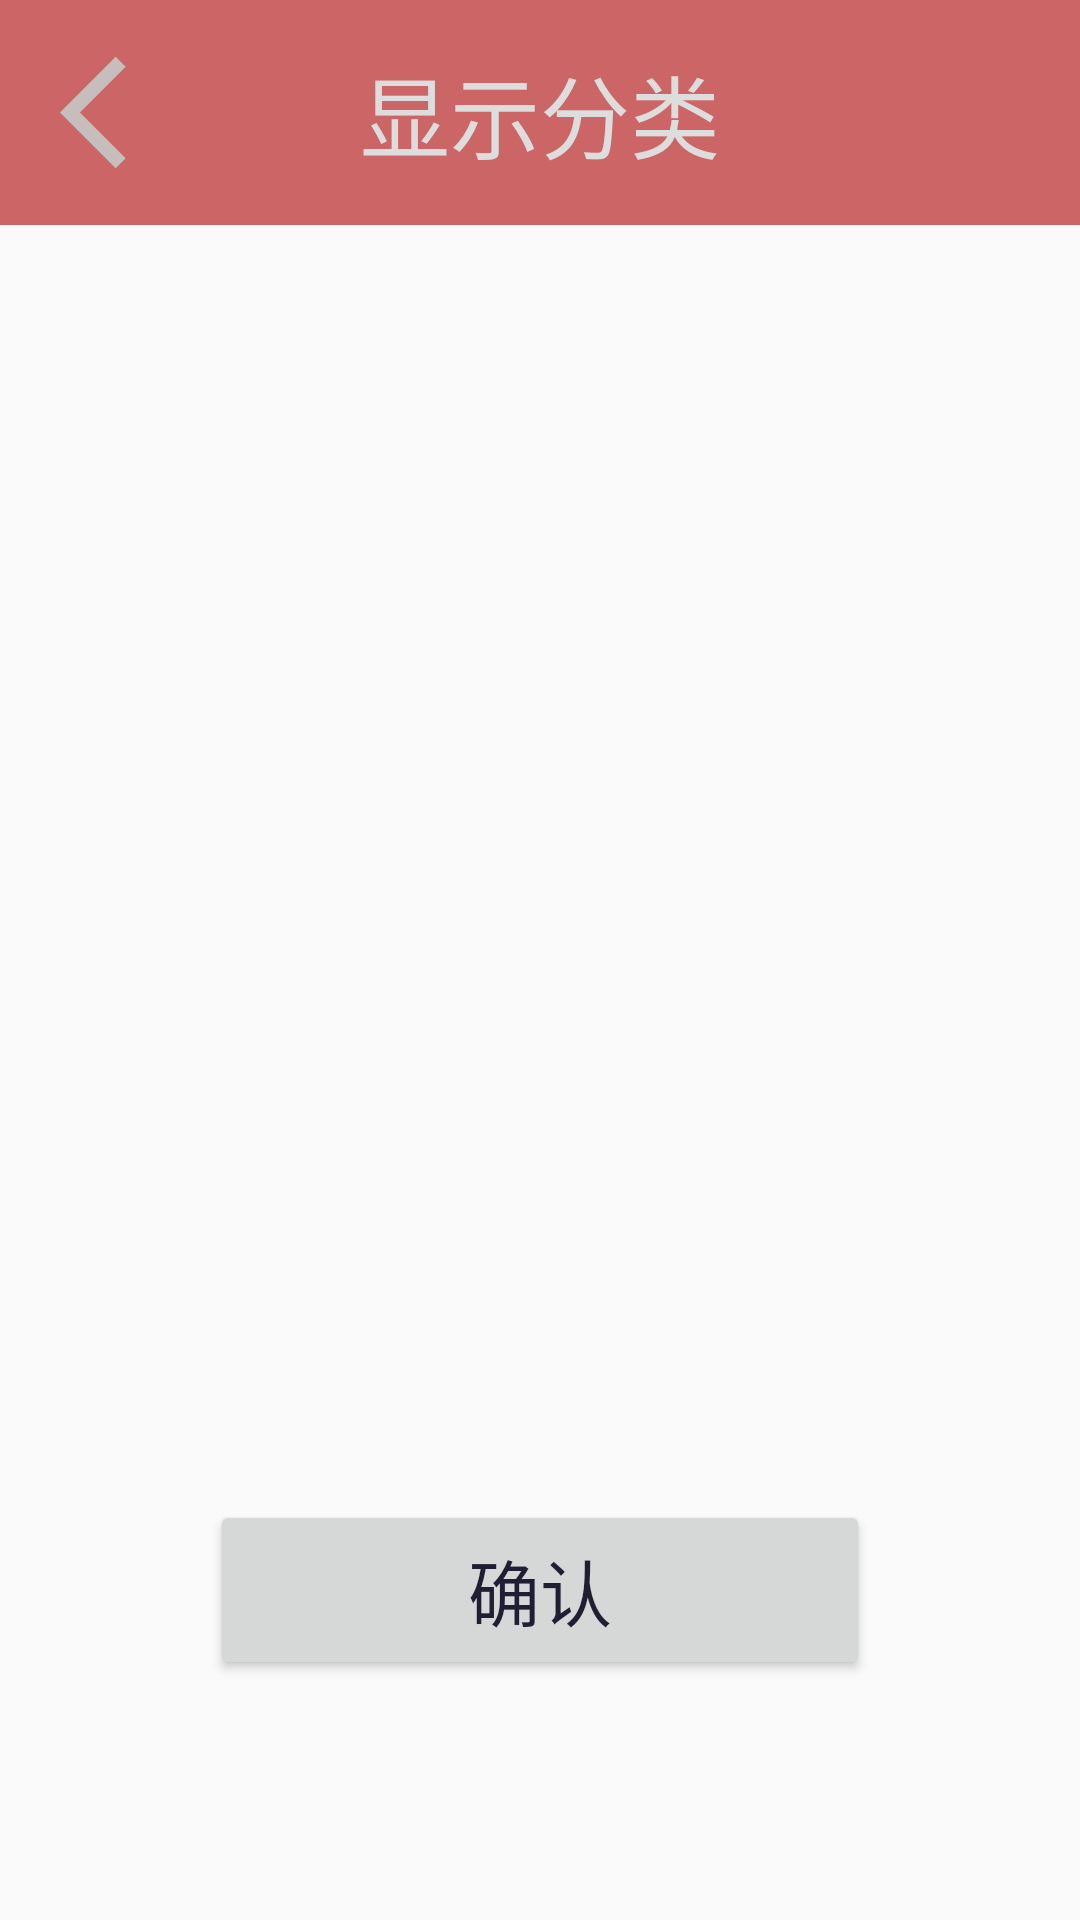

Screen size 1080*1920. Icon name, then its box in pixels as [x1,y1,x2,y2]:
arrow back: [60,57,126,168]
